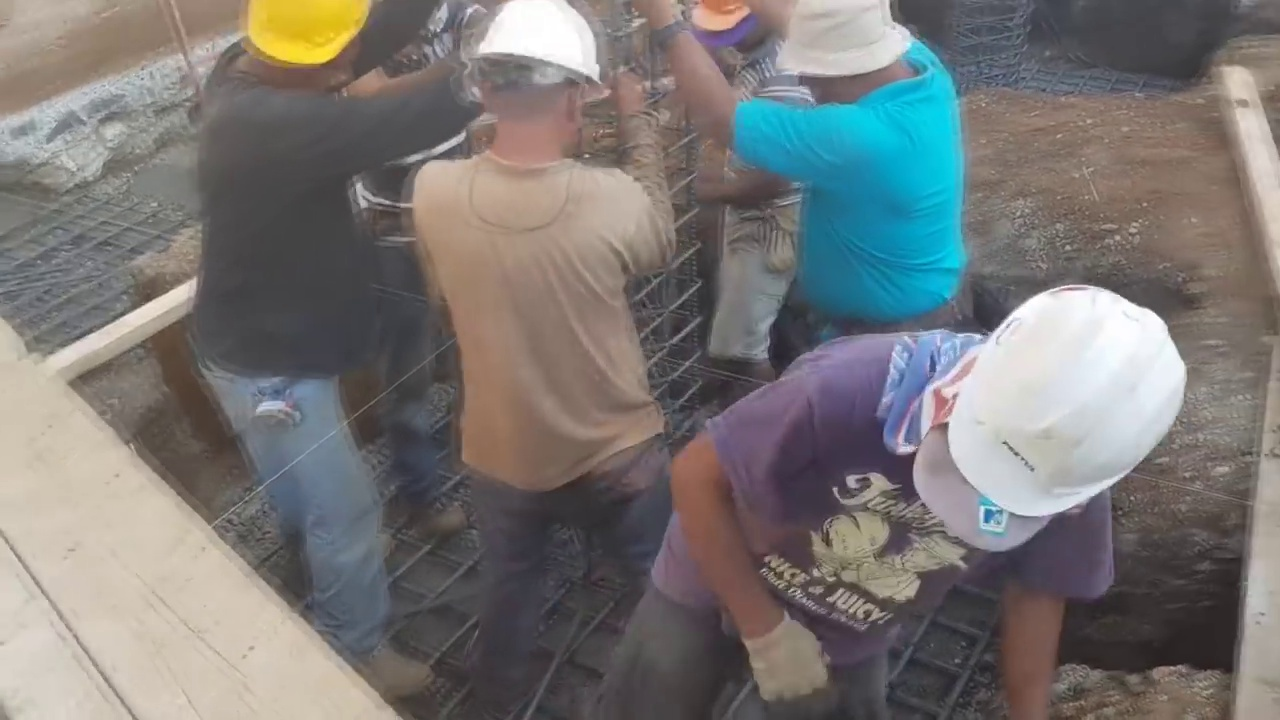helmet: (967, 295, 1187, 506), (471, 1, 605, 88), (246, 1, 368, 67)
helmet-off: (777, 4, 917, 110)
helmet-on: (892, 289, 1192, 551), (465, 4, 604, 174), (226, 7, 366, 98), (686, 0, 783, 63)
person: (638, 288, 1191, 720), (185, 4, 521, 693), (407, 2, 690, 715), (665, 4, 965, 445), (677, 4, 817, 407)
